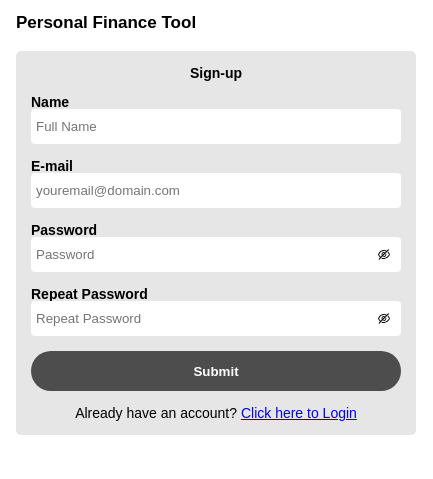
it: Register › Register Form › should show an alert for invalid password
The image size is (433, 479).
Step 1. Type "Name" into the field with placeholder "Full Name" → (216, 126), box [31,109,401,144]
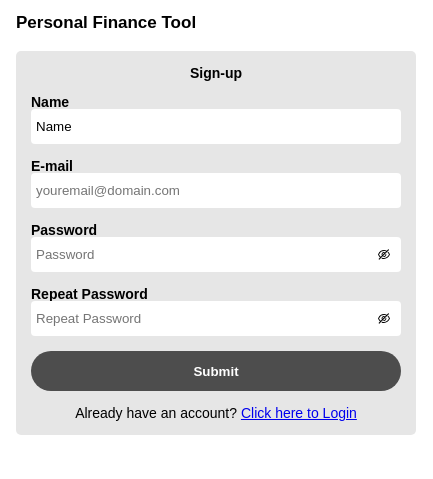
Step 2. Type "email@example.com" into the field with placeholder "youremail@domain.com" → (216, 190), box [31,173,401,208]
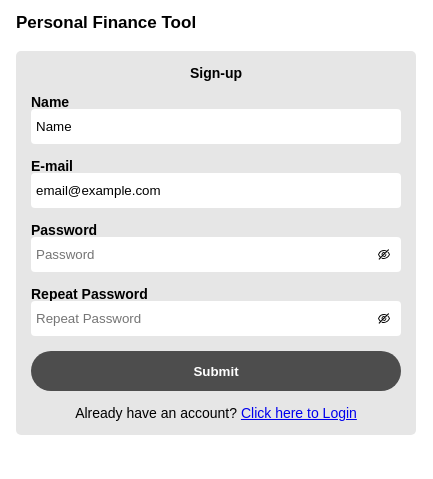
Step 3. Type "123" into the password field with placeholder "Password" → (216, 254), box [31,237,401,272]
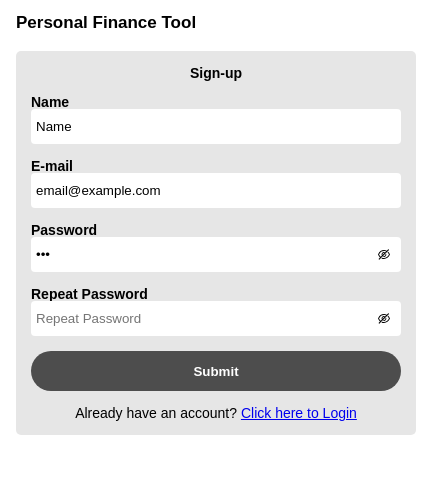
Step 4. Click the button "Submit" → (216, 371), box [31,351,401,391]
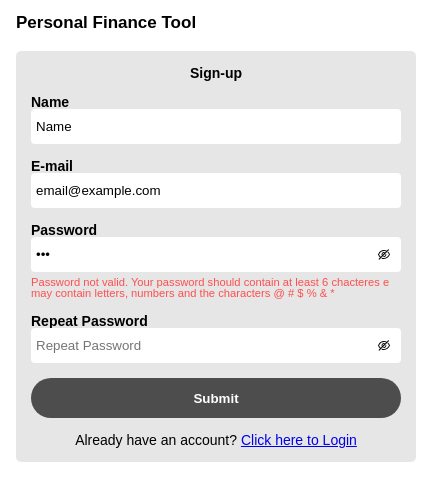
Now the message shows "Password not valid", box [31,276,389,299]
